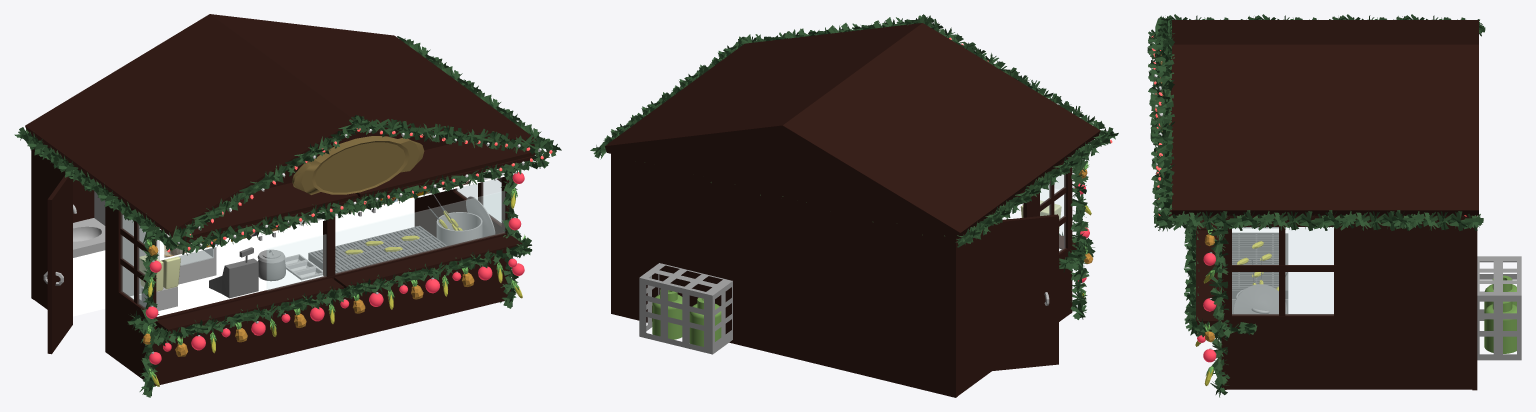
The model's file is stall.glb.
The picture shows the model from 3 angles, left to right: view 1: azimuth 30°, elevation 25°; view 2: azimuth 150°, elevation 25°; view 3: azimuth 270°, elevation 25°; orthographic projection. The views are drawn at different scales.
Parts seen in each view (by area): view 1: pCube100_blinn4_0; view 2: pCube100_blinn4_0; view 3: pCube100_blinn4_0.
Part boxes in pixels (<box>): pCube100_blinn4_0: <box>14,14,561,397</box>; pCube100_blinn4_0: <box>590,14,1118,397</box>; pCube100_blinn4_0: <box>1147,14,1521,397</box>.
Bounding box in the file's own units: 8.07 × 4.6 × 5.82.
Materials: 36 (4 with a texture image).
